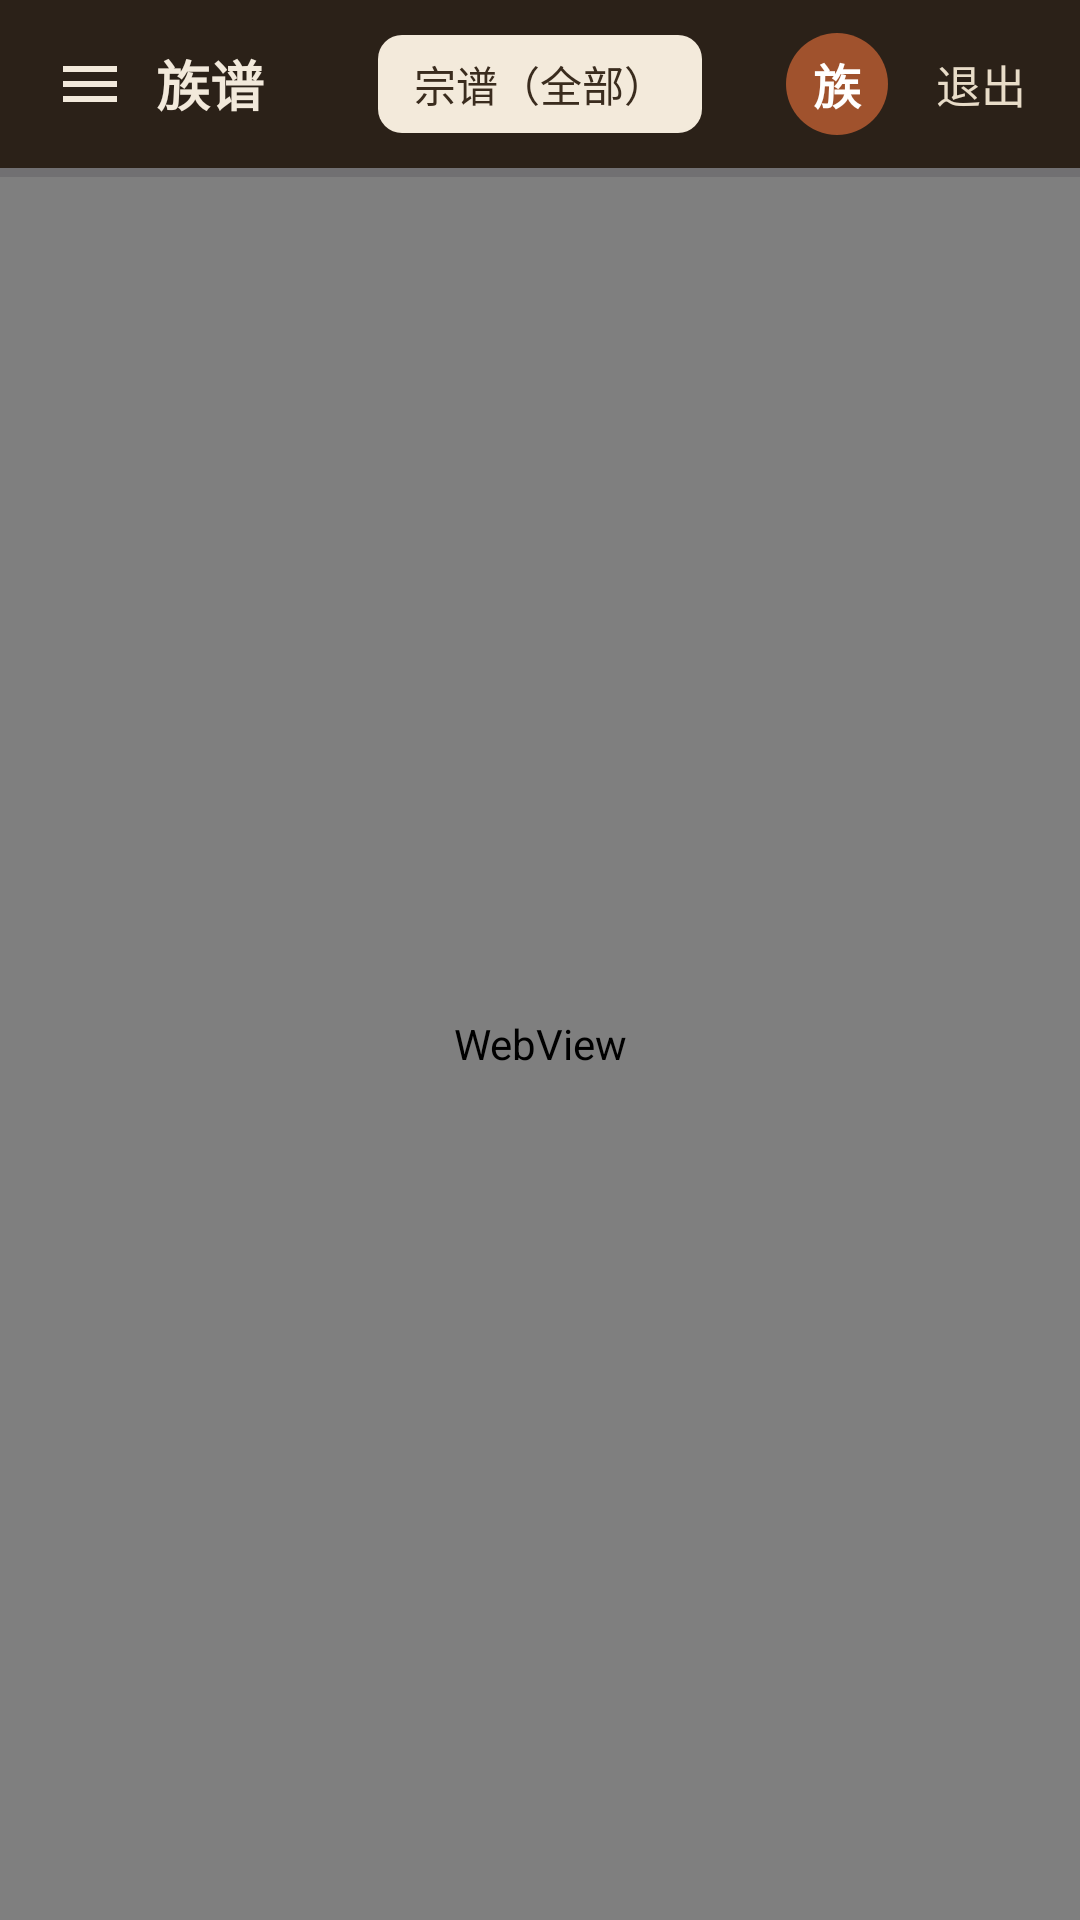

Named icons in this screenshot (1080w x 1920h) and their centers, [x,y]:
菜单: [90,84]
